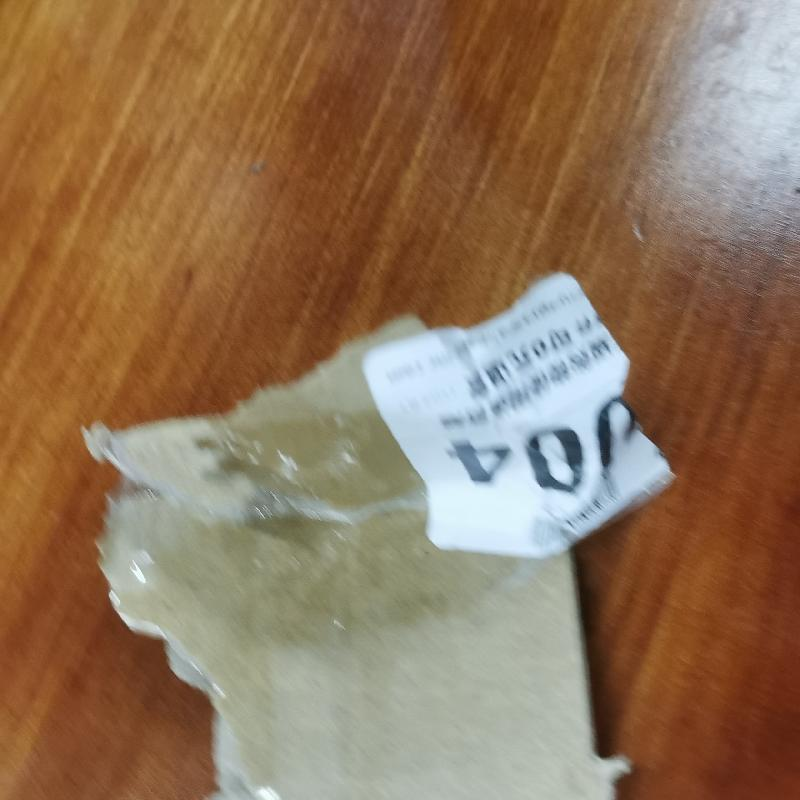boxes: (81, 268, 673, 800)
